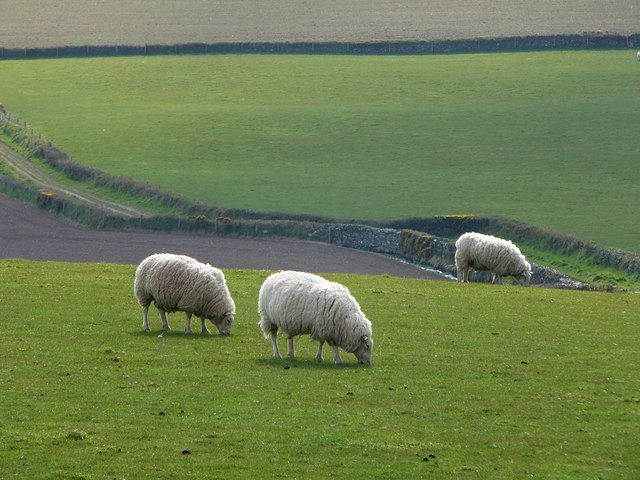grazing: (258, 268, 375, 368), (133, 248, 236, 339), (454, 230, 532, 285)
